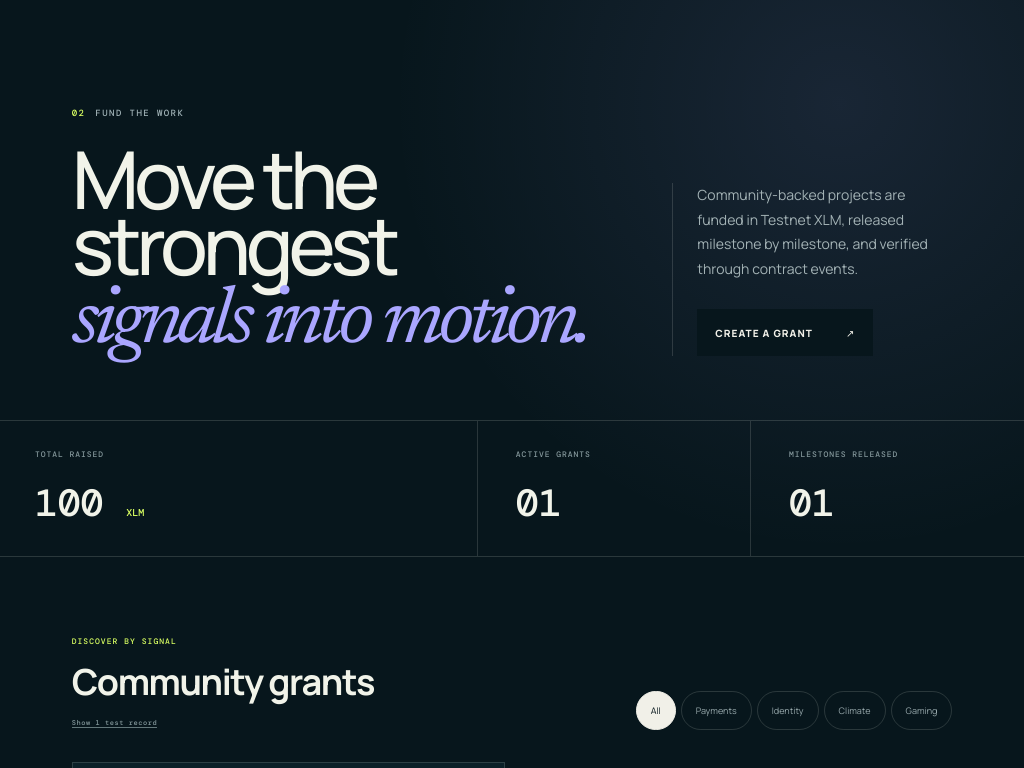
Scenario: GrantsView summary › keeps the on-chain test record available behind an explicit disclosure
Click the button "Show 1 test record" at (115, 723), box [72,718,157,728]
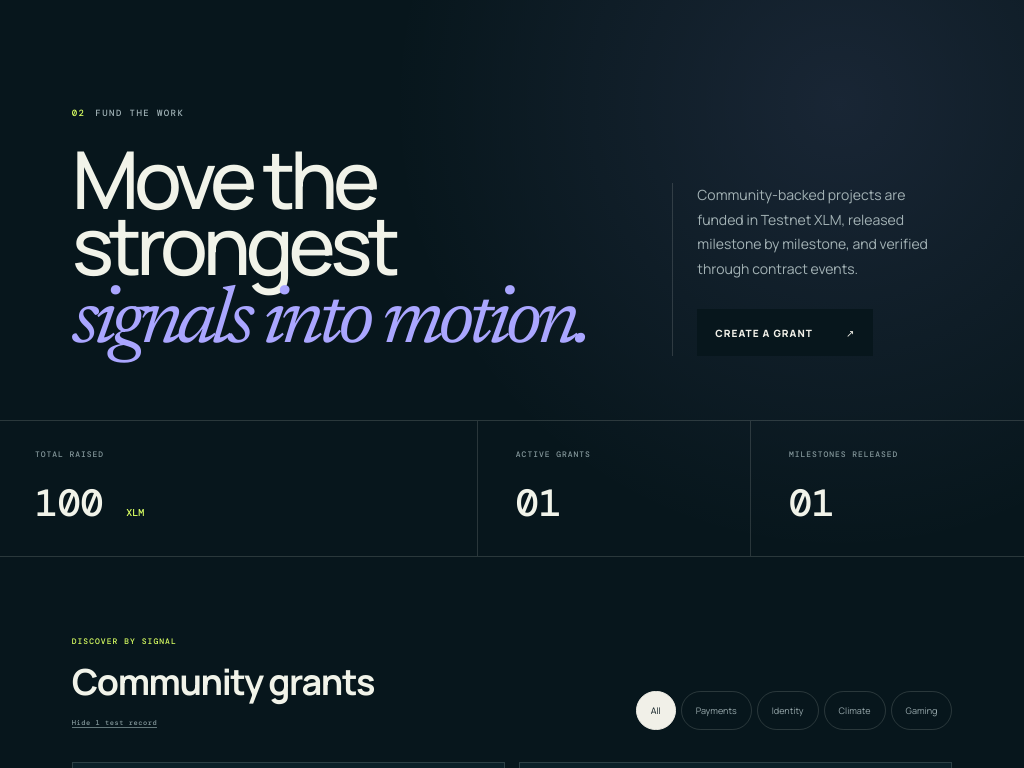
Expected: the button "Hide 1 test record" is shown, [72,718,157,728]
